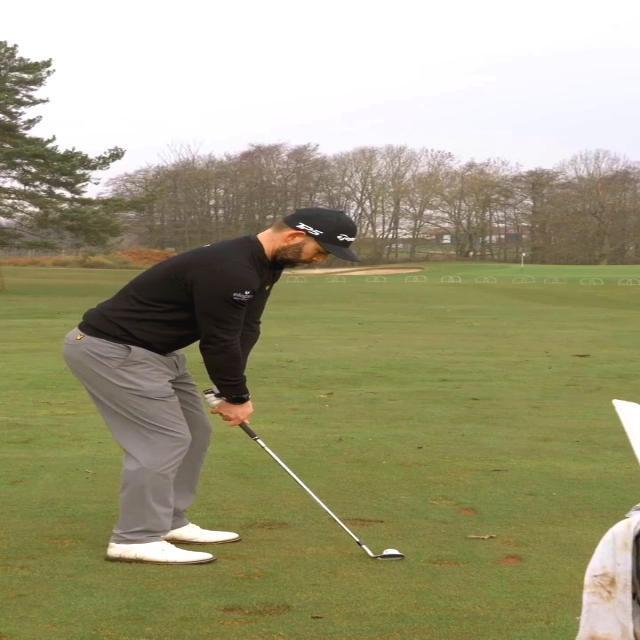ClubHead: (371, 554, 414, 562)
GolfBall: (383, 547, 400, 554)
